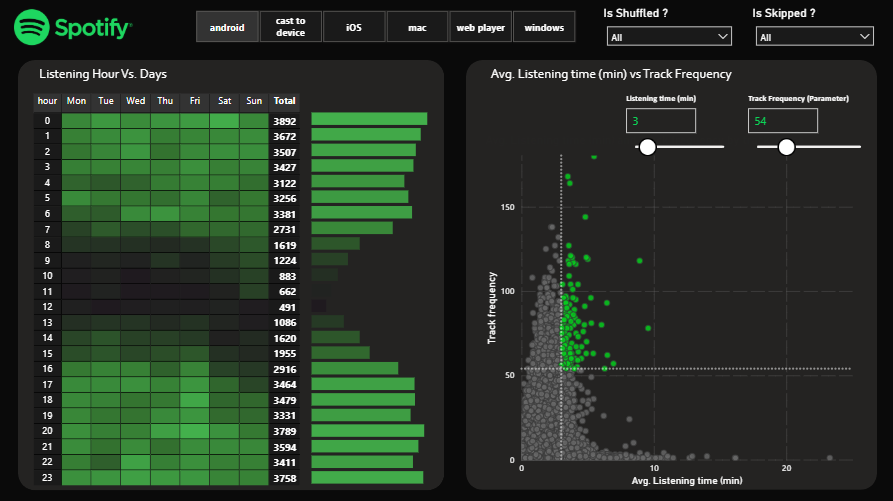

The dashboard page shown, as its layout file describes it:
{"tool":"powerbi","page":{"name":"Listening Patterns","canvas":[1280,720],"ordinal":1},"visuals":[{"type":"image","box":[11.3,11.3,205.5,70.9],"z":0},{"type":"slicer","title":"Is Shuffled ?","fields":{"Values":["Sheet1.shuffle"]},"box":[860,15.7,197.1,65.7],"z":1000},{"type":"shape","box":[35.7,91.4,604.3,610],"z":2000},{"type":"shape","box":[670.4,92.1,582.5,609.4],"z":3000},{"type":"slicer","fields":{"Values":["Sheet1.platform"]},"box":[262.9,15.7,587.1,55.7],"z":4000},{"type":"slicer","title":"Is Skipped ?","fields":{"Values":["Sheet1.skipped"]},"box":[1071.4,15.7,187.1,65.7],"z":5000},{"type":"pivotTable","fields":{"Rows":["Sheet1.hour"],"Columns":["Date Table.Day Name"],"Values":["Sheet1.No of Tracks"]},"box":[52.4,134.6,394,566.9],"z":6000},{"type":"barChart","fields":{"Category":["Sheet1.hour"],"Y":["Sheet1.No of Tracks"]},"box":[446.5,153.1,178.6,566.9],"z":7000},{"type":"textbox","box":[52.4,92.1,233.9,42.5],"z":8000},{"type":"scatterChart","fields":{"Category":["Sheet1.track_name"],"X":["Sheet1.Avg. Listening time (min)"],"Y":["Sheet1.Track frequency"]},"box":[693.1,195.6,537.2,506],"z":9000},{"type":"slicer","fields":{"Values":["Listening time (min).Listening time (min)"]},"box":[884.4,134.6,172.9,93.5],"z":10000},{"type":"slicer","fields":{"Values":["Track Frequency (Parameter).Track Frequency (Parameter)"]},"box":[1057.3,134.6,194.2,93.5],"z":11000},{"type":"textbox","box":[693.1,92.1,402.5,42.5],"z":12000}]}

Visuals, with their boxes in screenshot pixels (x1, y1, x2, y2), scaled from the page's 1280x720 canvas onto the 893x501 screenshot:
image: (x1=8, y1=8, x2=151, y2=57)
"Is Shuffled ?" slicer: (x1=600, y1=11, x2=737, y2=57)
shape: (x1=25, y1=64, x2=446, y2=488)
shape: (x1=468, y1=64, x2=874, y2=488)
slicer - Sheet1.platform: (x1=183, y1=11, x2=593, y2=50)
"Is Skipped ?" slicer: (x1=747, y1=11, x2=878, y2=57)
pivotTable - Sheet1.hour x Date Table.Day Name: (x1=37, y1=94, x2=311, y2=488)
barChart - Sheet1.hour x Sheet1.No of Tracks: (x1=312, y1=107, x2=436, y2=500)
textbox: (x1=37, y1=64, x2=200, y2=94)
scatterChart - Sheet1.track_name x Sheet1.Avg. Listening time (min): (x1=484, y1=136, x2=858, y2=488)
slicer - Listening time (min).Listening time (min): (x1=617, y1=94, x2=738, y2=159)
slicer - Track Frequency (Parameter).Track Frequency (Parameter): (x1=738, y1=94, x2=873, y2=159)
textbox: (x1=484, y1=64, x2=764, y2=94)
